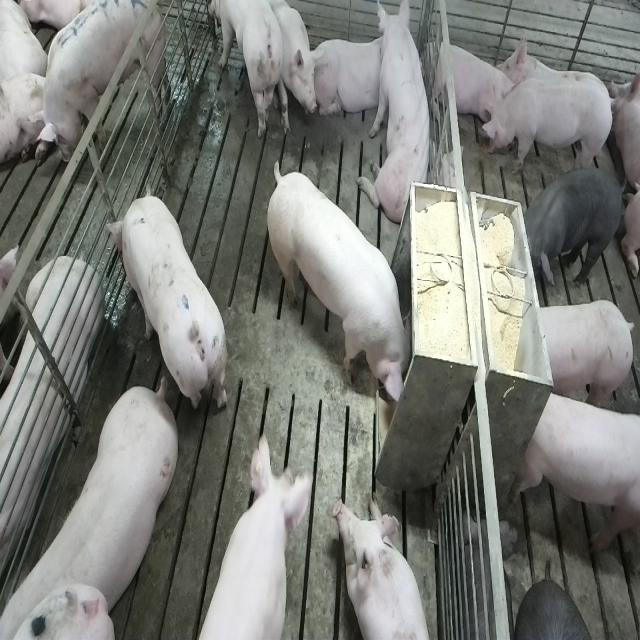Feeding: (271, 162, 420, 410)
Sitting: (362, 4, 436, 230), (260, 2, 318, 142)
Standing: (6, 373, 183, 634), (183, 432, 320, 640), (105, 191, 226, 420), (518, 384, 638, 572), (28, 0, 165, 158), (482, 79, 618, 182), (205, 1, 304, 142), (517, 162, 624, 285), (530, 298, 635, 412)
Sternal_lying: (0, 248, 101, 586), (336, 498, 434, 640), (429, 36, 512, 132), (311, 34, 391, 122)
